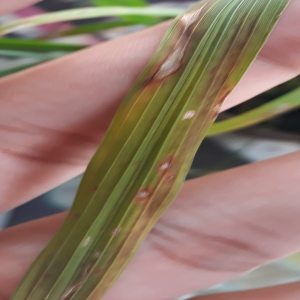Rice_Blast: (134, 36, 197, 84), (164, 1, 218, 44), (122, 184, 161, 209), (152, 156, 187, 182), (178, 102, 202, 125)
